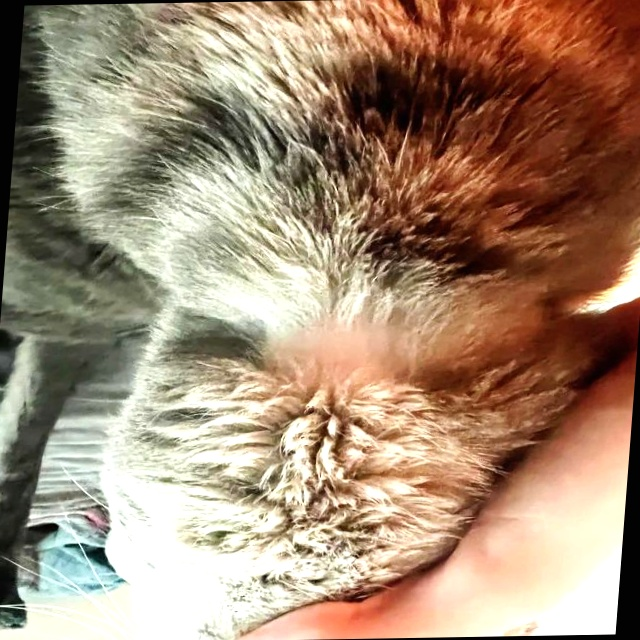hairloss: (234, 317, 513, 392)
